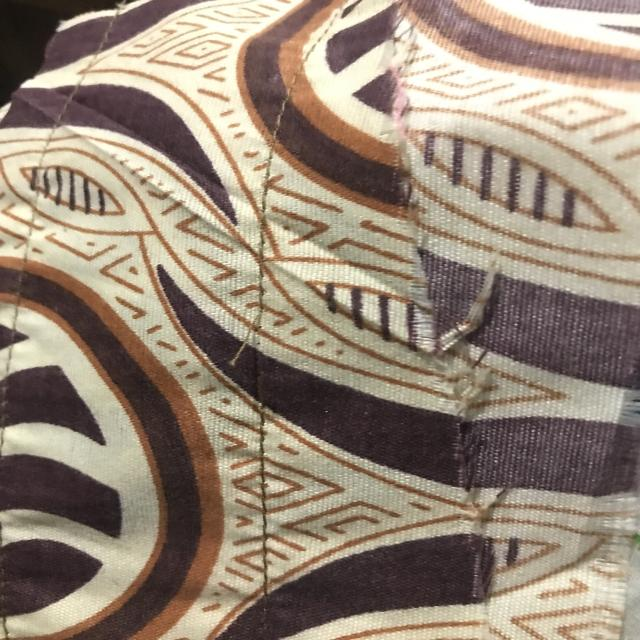broken: (206, 306, 290, 430)
good: (249, 459, 281, 559)
